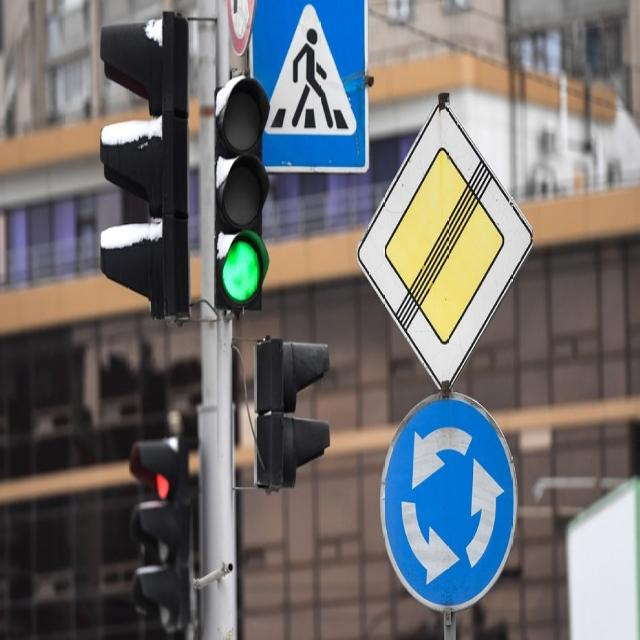roundabout: (378, 393, 519, 613)
